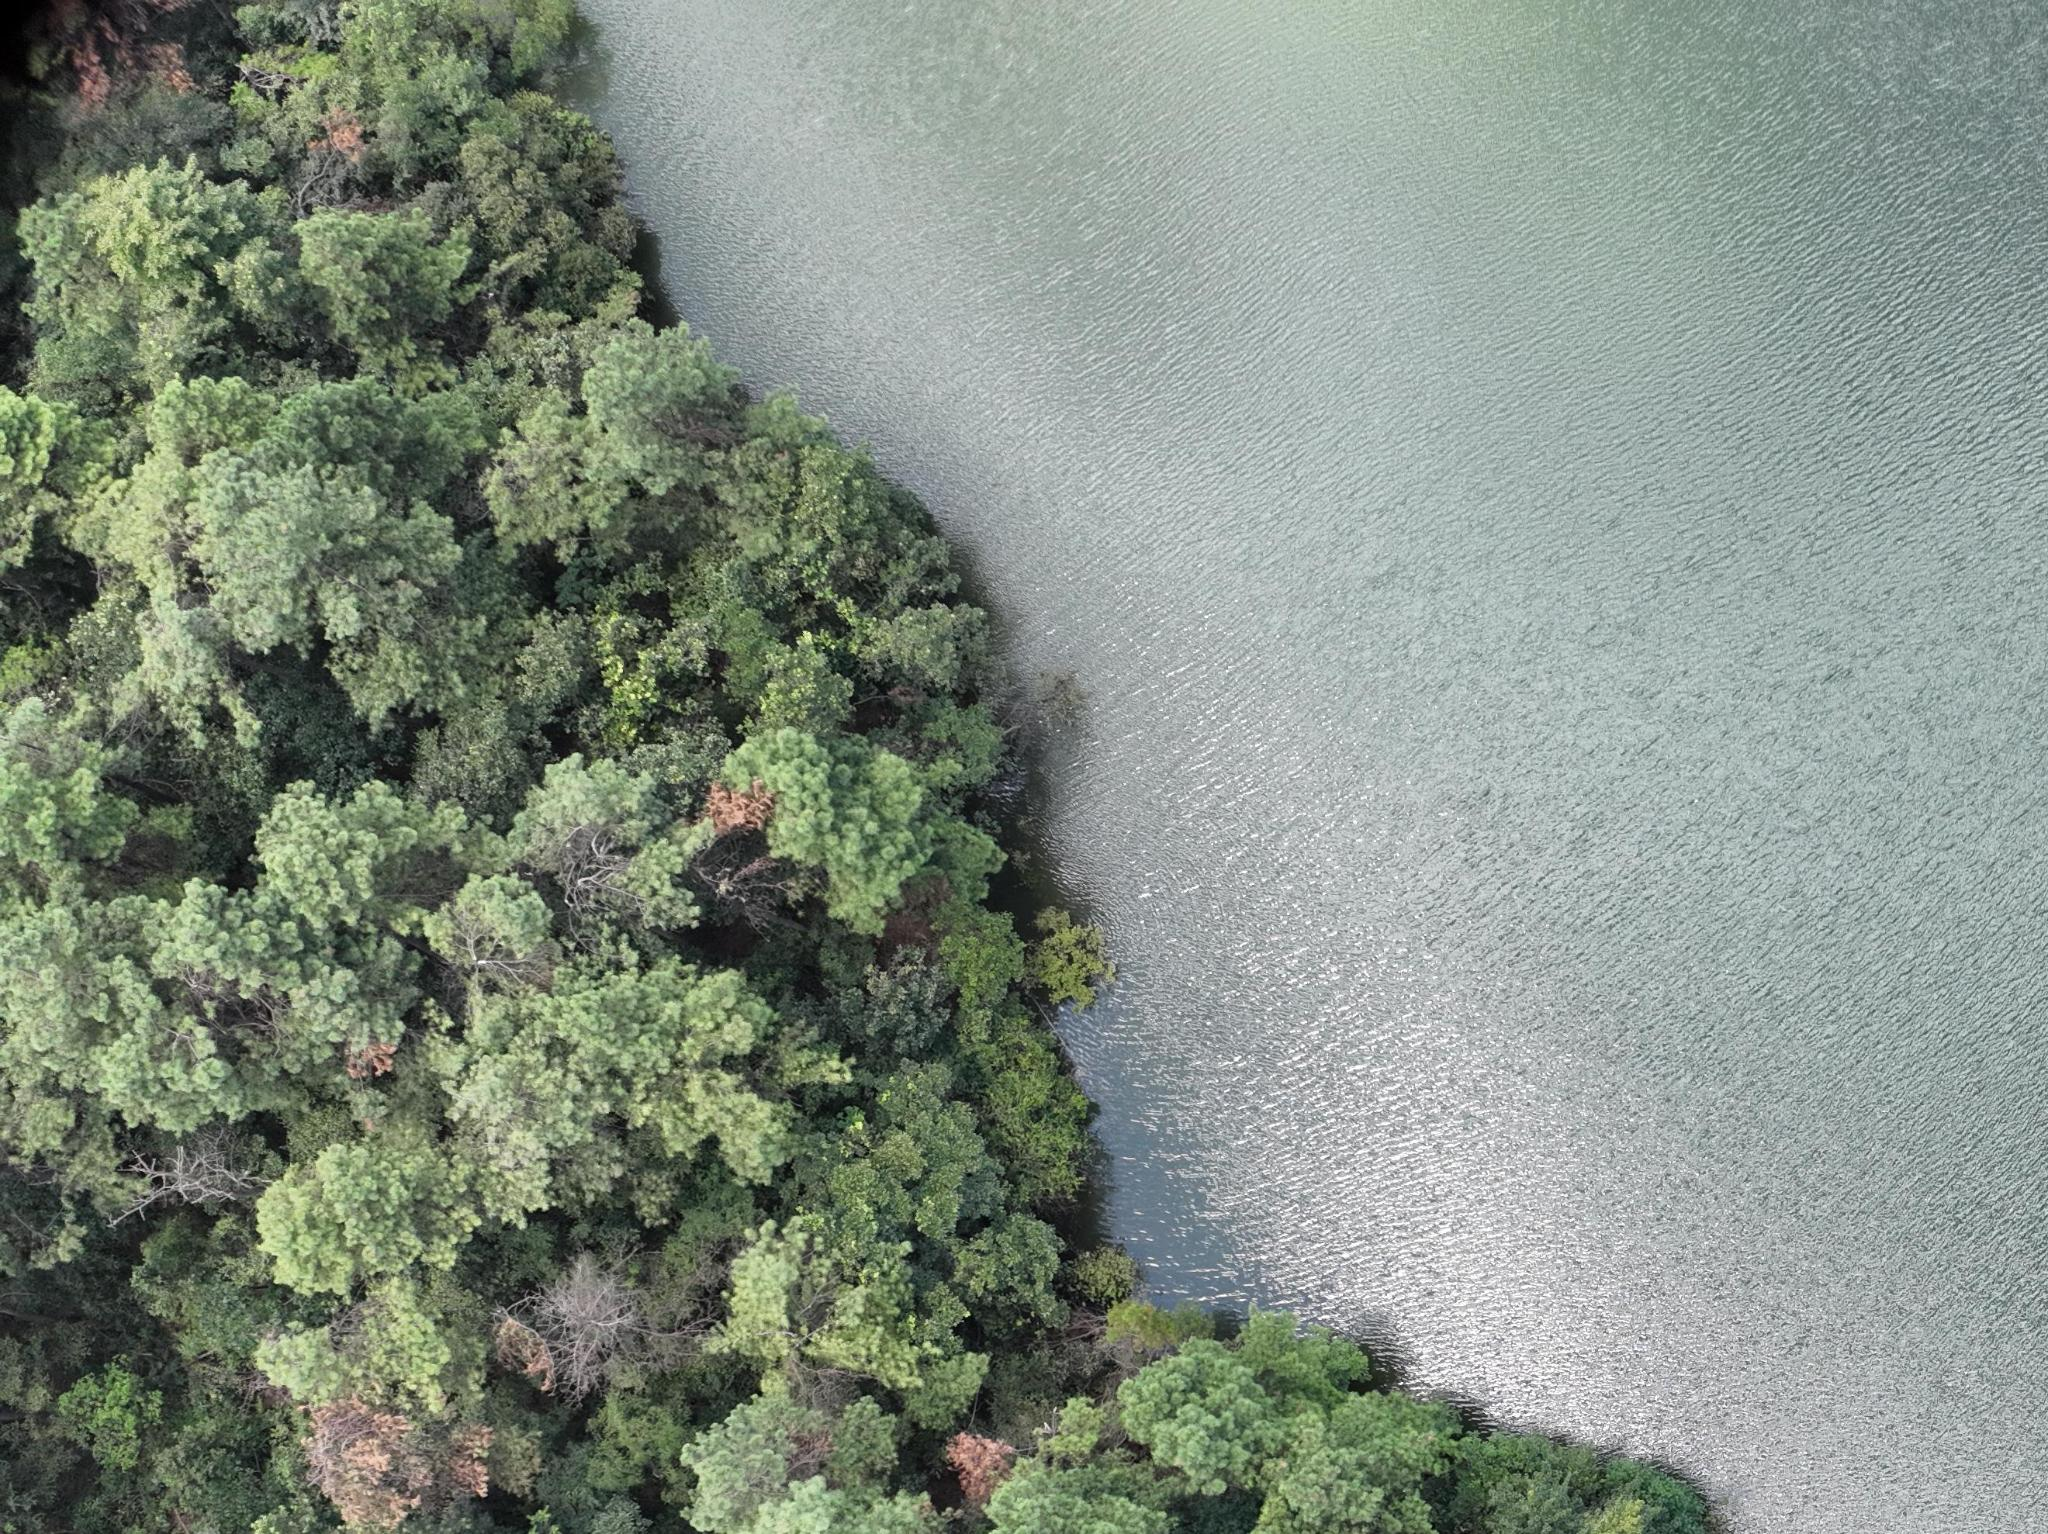dead: (551, 1260, 667, 1402)
heavy: (300, 1395, 483, 1532), (61, 2, 195, 105), (941, 1431, 1017, 1503), (300, 106, 364, 189), (698, 777, 773, 833), (487, 1318, 541, 1386)
